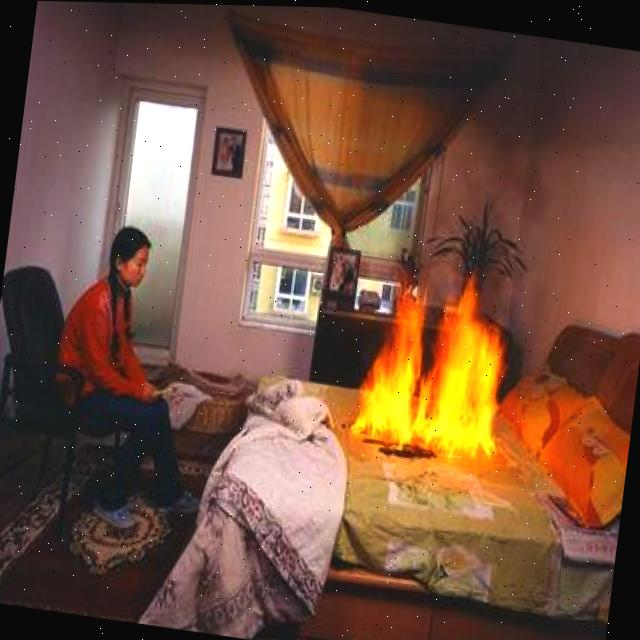fire: (350, 277, 503, 455)
